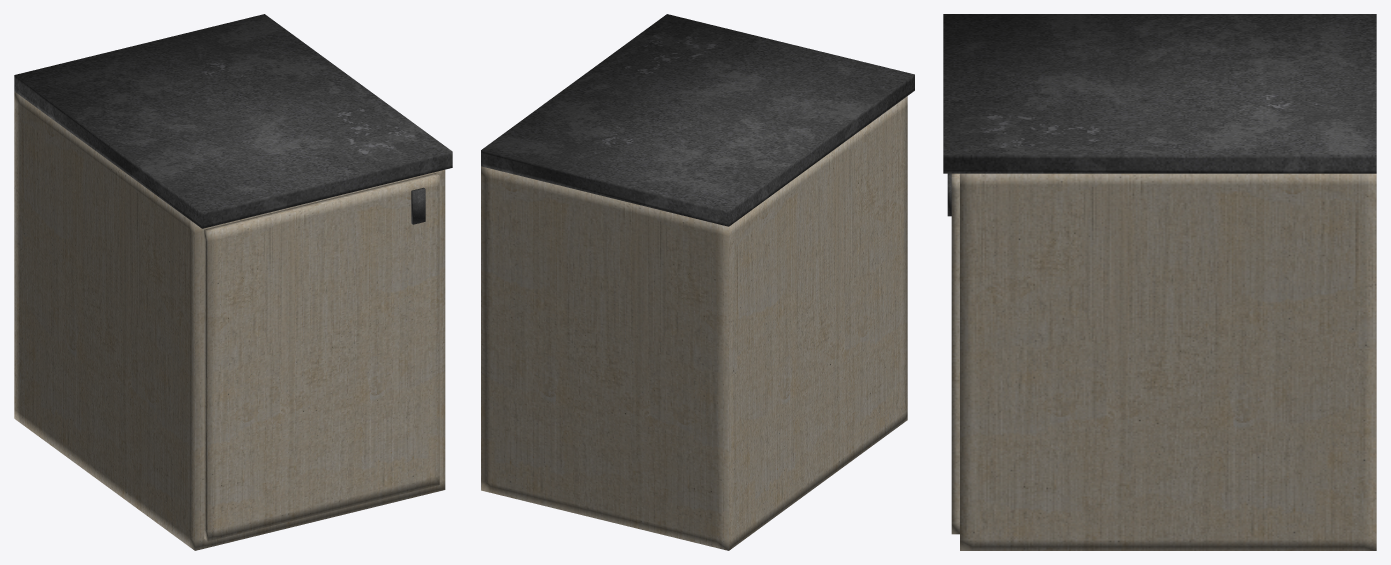
File: cabinet.low.none.002.fbx
3 views of the same model, side by side, from view 1: azimuth 30°, elevation 25°; view 2: azimuth 150°, elevation 25°; view 3: azimuth 270°, elevation 25° (orthographic). The views are drawn at different scales.
Visible parts, largest first — view 1: Drawer.001, Base, Cube.001; view 2: Base, Cube.001; view 3: Base, Cube.001, Drawer.001.
Boxes of the visible parts, box(x1,y1,x2,y2) form: Drawer.001: box(204, 173, 439, 541); Base: box(14, 91, 445, 550); Cube.001: box(14, 14, 452, 228); Base: box(481, 96, 907, 550); Cube.001: box(481, 14, 914, 226); Base: box(960, 173, 1376, 550); Cube.001: box(943, 14, 1376, 173); Drawer.001: box(951, 173, 959, 534).
Bounding box in the file's own units: 80 × 105 × 104.
